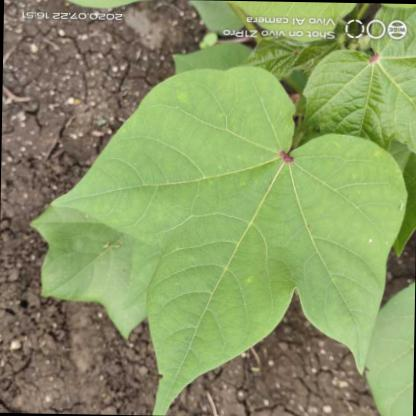cotton: (36, 59, 384, 412)
